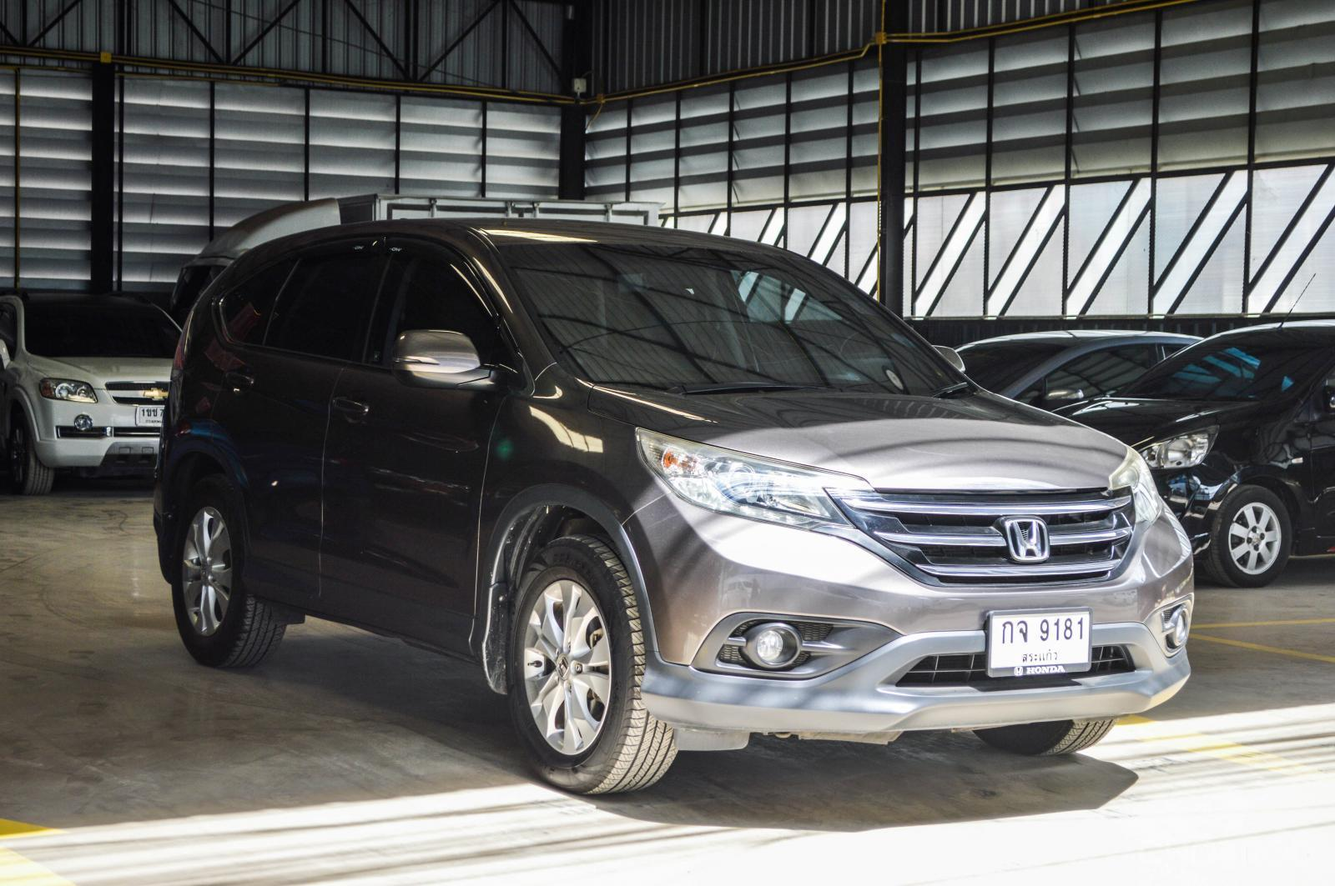license-plate: (987, 606, 1096, 680)
